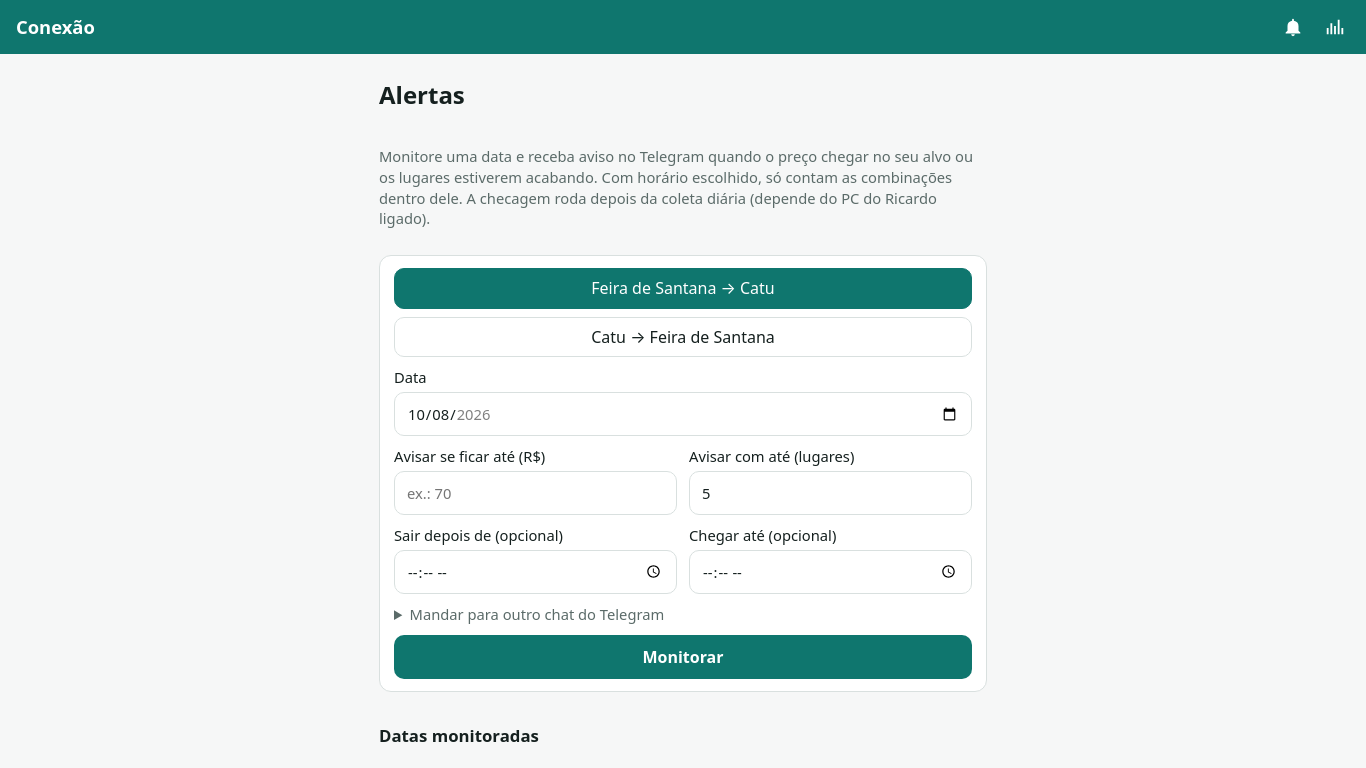
it: Alertas › alerta repetido: mensagem clara
Click the button "Monitorar": point(683, 657) [394,635,972,679]
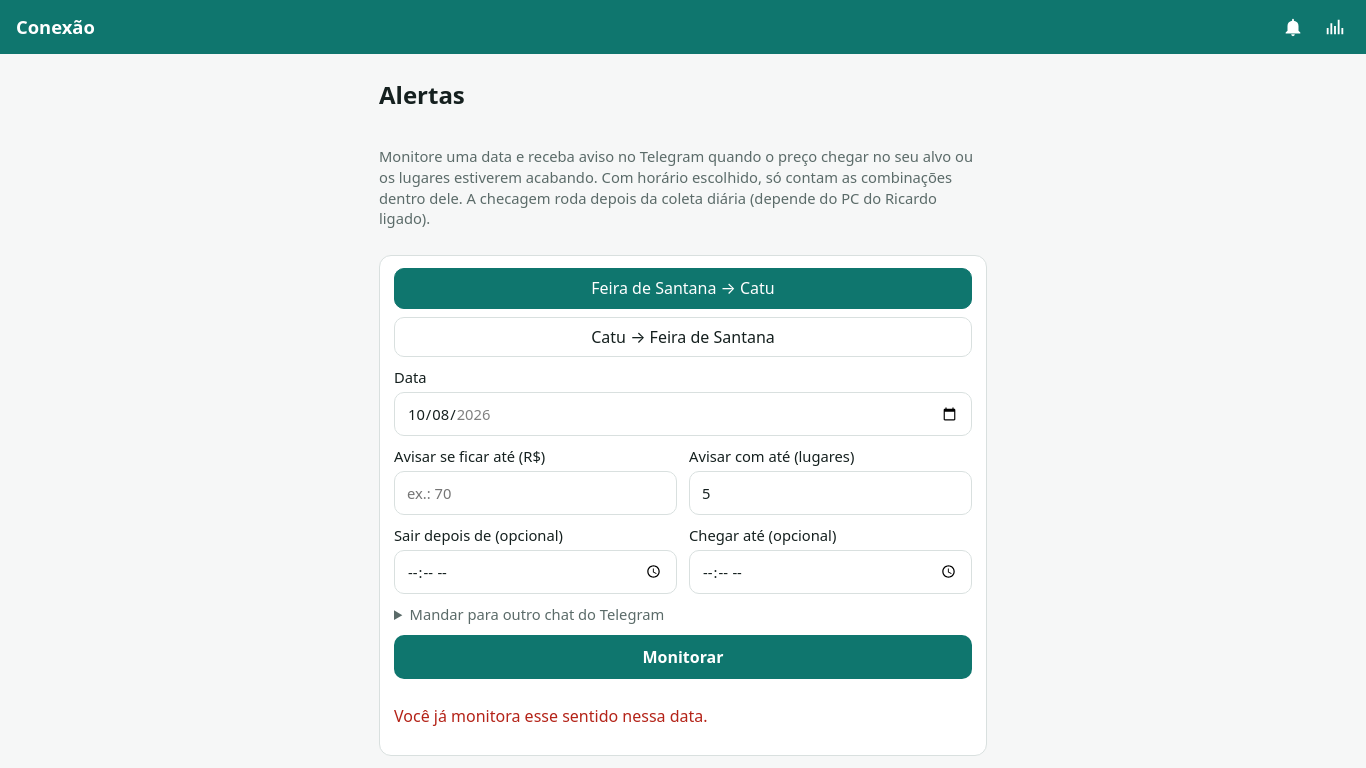
Now the text "Você já monitora esse sentido nessa data." is shown, box [394,705,708,727]
